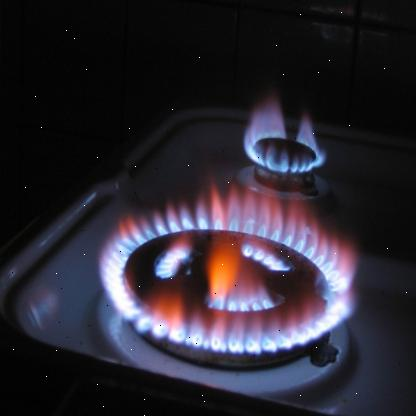fire: (99, 176, 359, 360), (247, 90, 326, 175)
